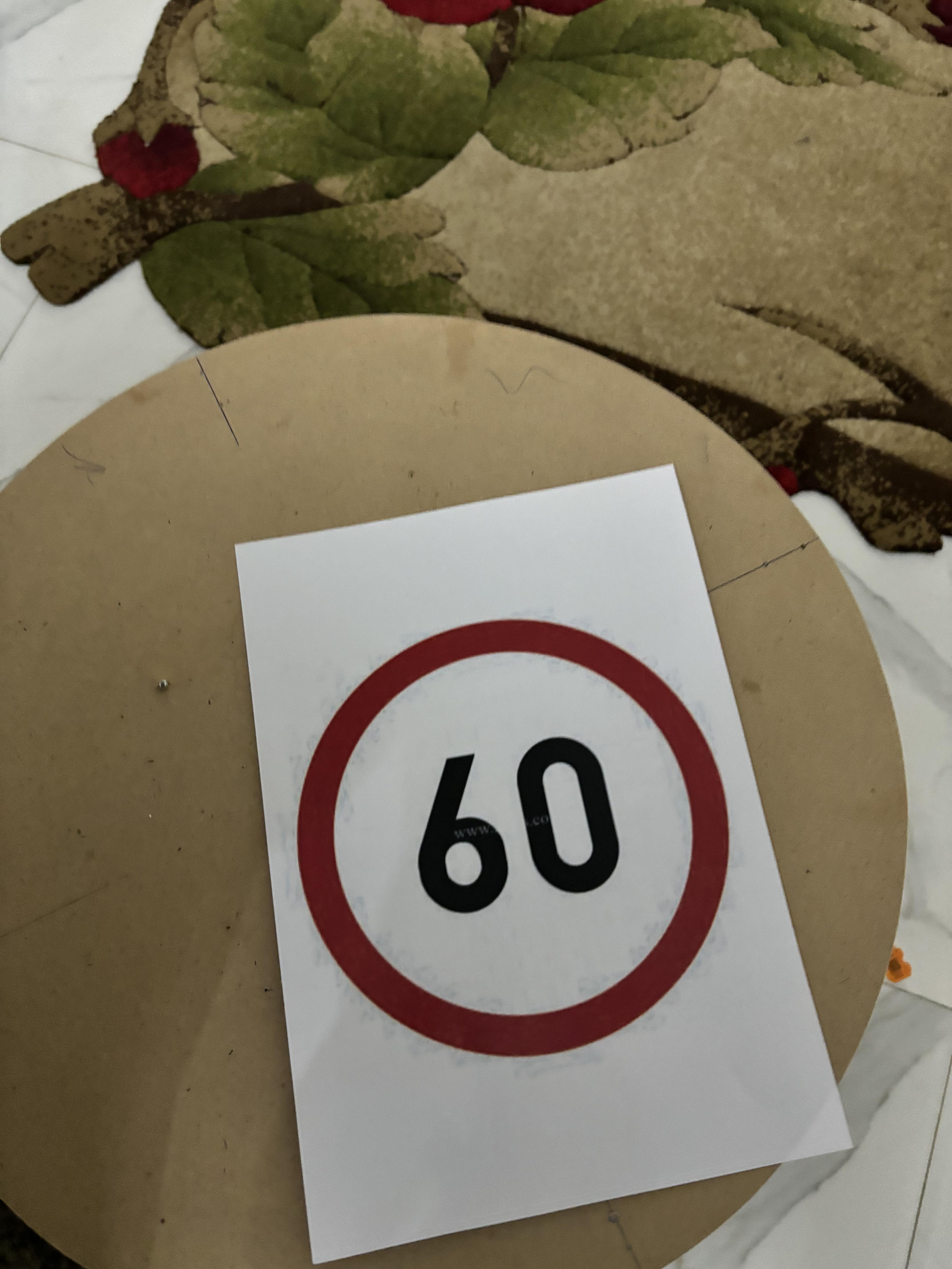60-Speed: (278, 598, 753, 1073)
